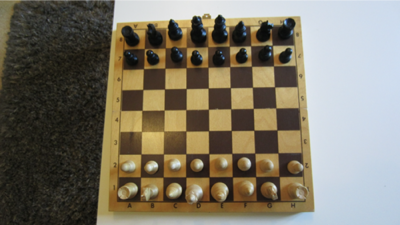black-bishop: (168, 19, 184, 41), (232, 21, 247, 42)
black-king: (212, 15, 229, 44)
black-knight: (256, 21, 274, 43), (146, 24, 163, 47)
black-pawn: (124, 51, 139, 66), (190, 50, 204, 66), (280, 48, 294, 64), (147, 50, 160, 66), (171, 47, 184, 63), (236, 48, 249, 64), (259, 45, 272, 61), (213, 50, 226, 65)
black-queen: (191, 16, 208, 43)
black-rook: (279, 18, 297, 40), (122, 26, 140, 47)
white-bishop: (166, 183, 183, 199), (239, 181, 255, 197)
white-king: (211, 182, 230, 202)
white-knight: (260, 182, 279, 201), (141, 184, 159, 202)
white-pawn: (288, 160, 304, 175), (144, 161, 159, 175), (121, 160, 136, 174), (260, 159, 274, 173), (238, 158, 252, 172), (191, 159, 204, 173), (215, 158, 228, 171), (168, 159, 181, 172)
white-queen: (185, 185, 204, 205)
white-rook: (118, 183, 139, 200), (288, 183, 309, 200)
